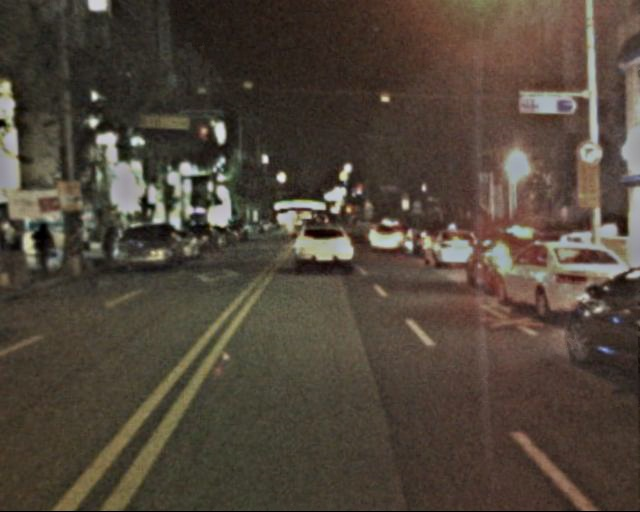person: (32, 219, 62, 273)
